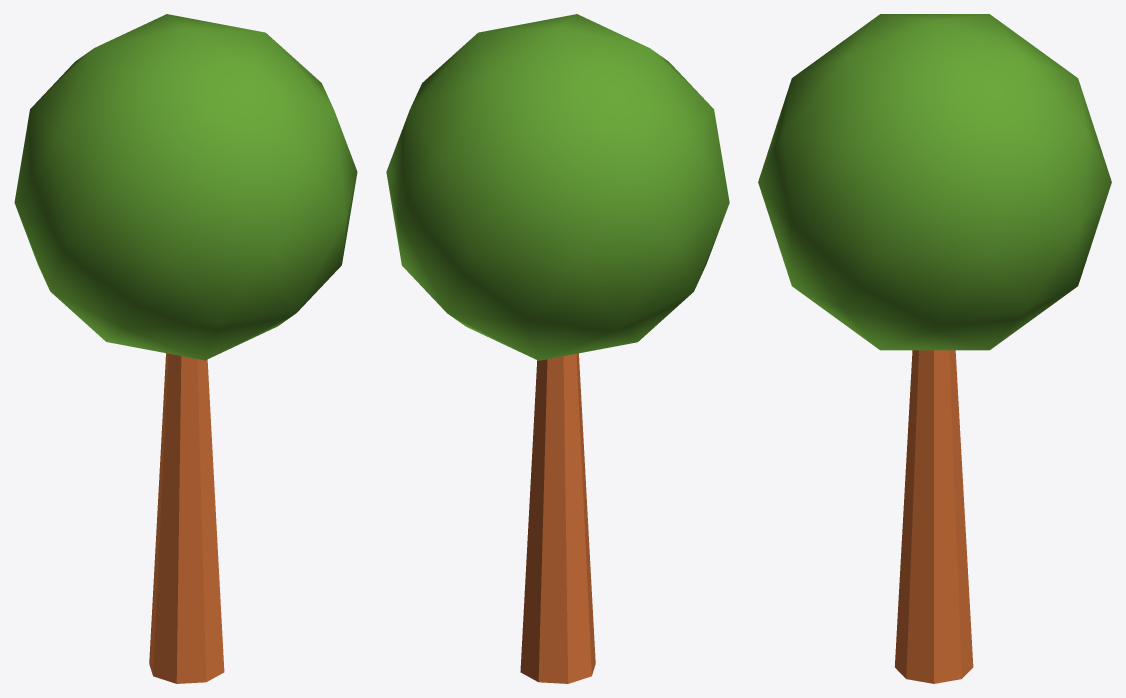
The model's file is Tree.001.glb.
3 views of the same model, side by side, from view 1: azimuth 30°, elevation 25°; view 2: azimuth 150°, elevation 25°; view 3: azimuth 270°, elevation 25° (orthographic).
Visible parts, largest first — view 1: CartoonTree; view 2: CartoonTree; view 3: CartoonTree.
Boxes of the visible parts, x1=… form: CartoonTree: x1=14, y1=14, x2=357, y2=683; CartoonTree: x1=386, y1=14, x2=729, y2=683; CartoonTree: x1=758, y1=14, x2=1111, y2=683.
Size of the model in its own units: 1.71 by 3.62 by 1.8.
